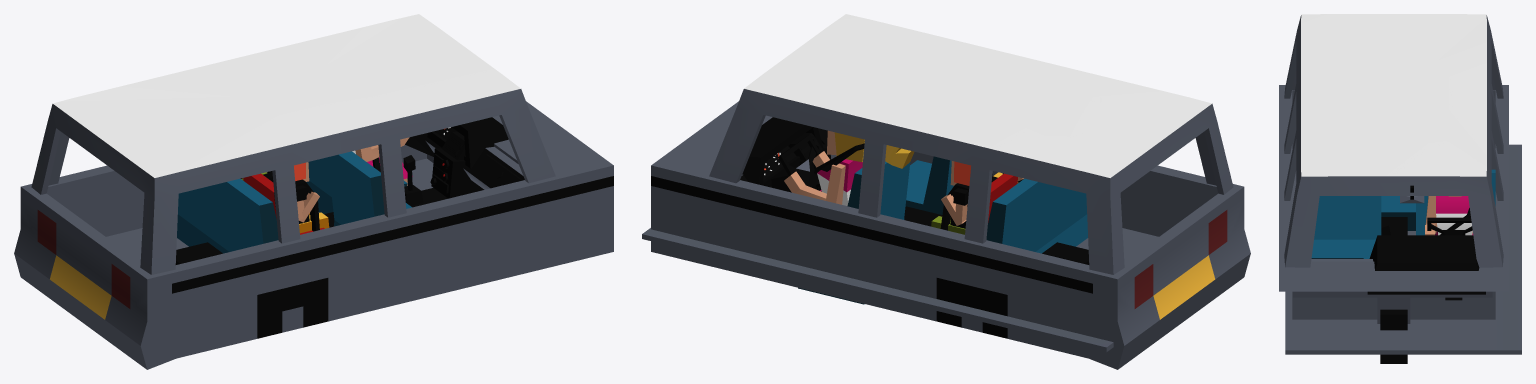
File: car4inside.FBX
The picture shows the model from 3 angles, left to right: view 1: azimuth 30°, elevation 25°; view 2: azimuth 150°, elevation 25°; view 3: azimuth 270°, elevation 25°; orthographic projection. The views are drawn at different scales.
Visible parts, largest first — view 1: car4inside; view 2: car4inside; view 3: car4inside.
Part boxes in pixels (box(x1,y1,x2,y2)): car4inside: box(14, 14, 613, 369); car4inside: box(642, 14, 1250, 369); car4inside: box(1279, 14, 1521, 363).
Size of the model in its own units: 329 by 161 by 124.
